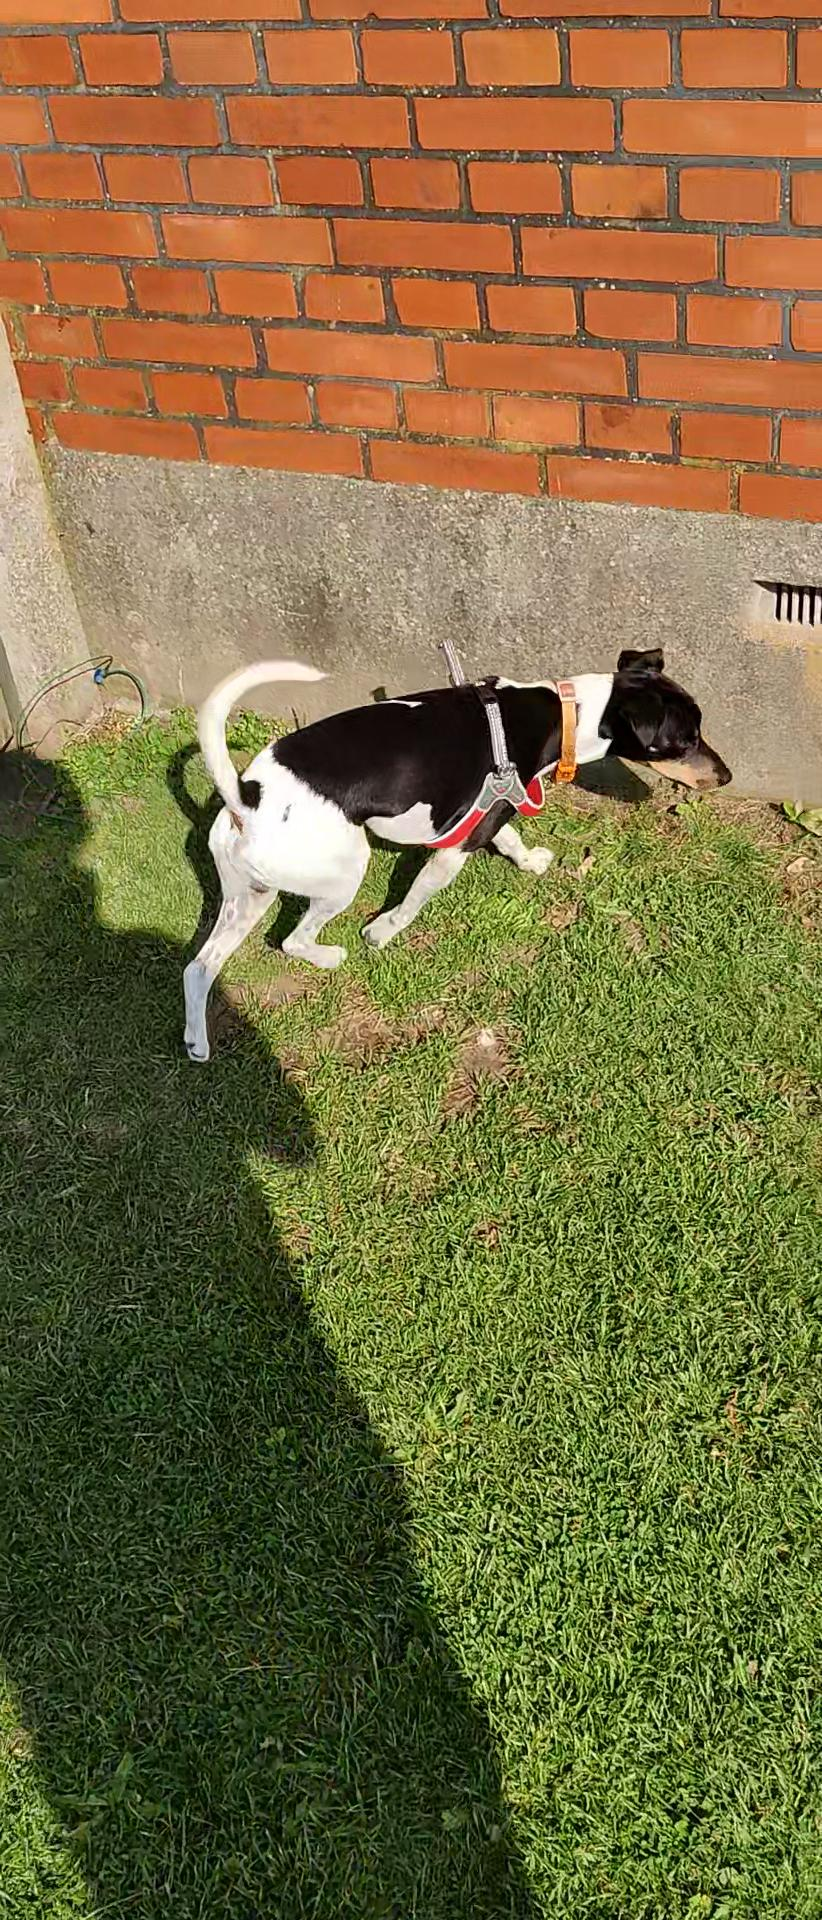Dog: (132, 621, 734, 1069)
